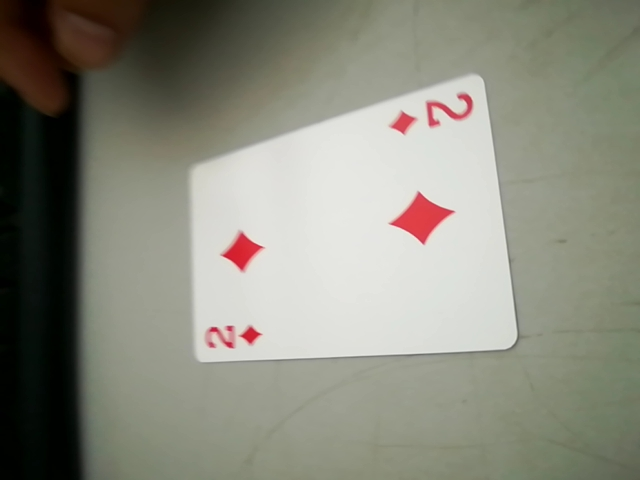fk 2: (378, 86, 482, 142), (196, 316, 269, 361)
